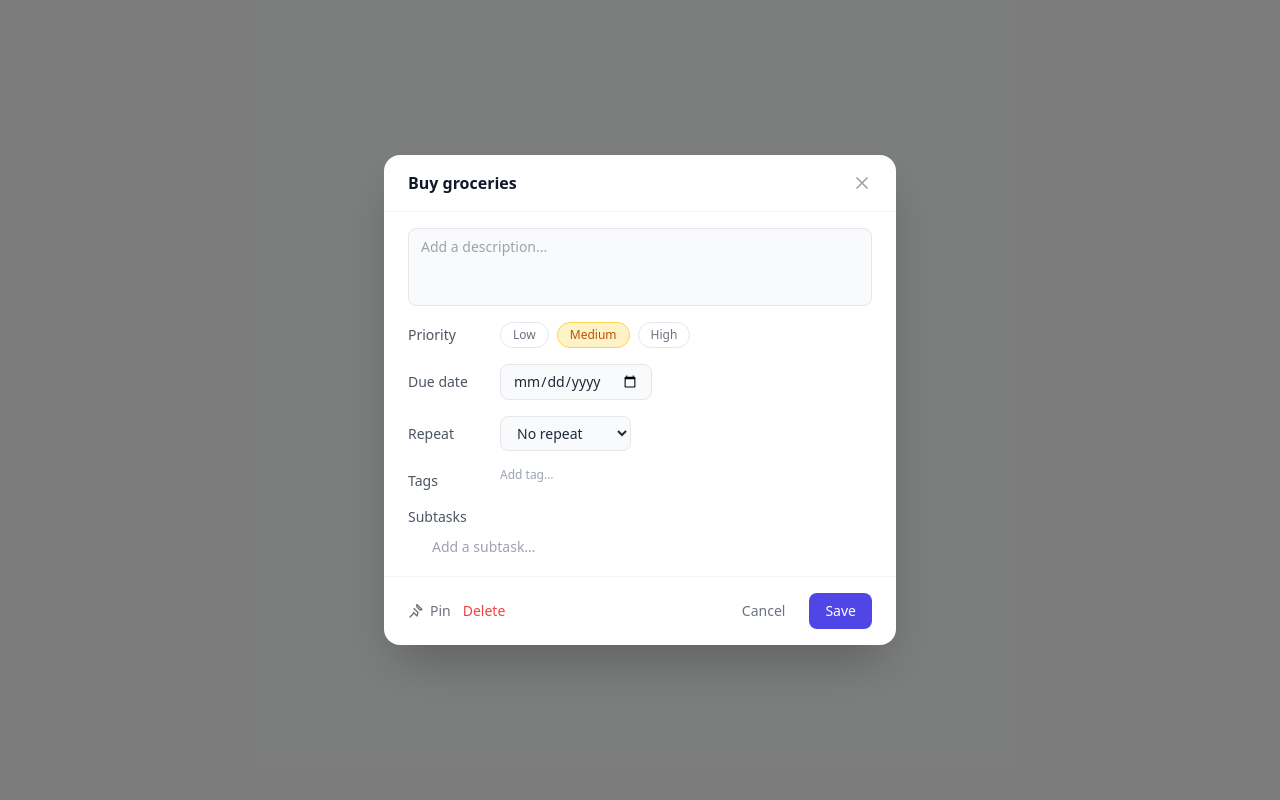
TaskModal – recurrence › hides custom day pickers when frequency changes away from custom
This screenshot has width=1280, height=800.
Select "Custom days" in the dropdown named "recurrence frequency": [566, 434] box 500,416 -> 631,451
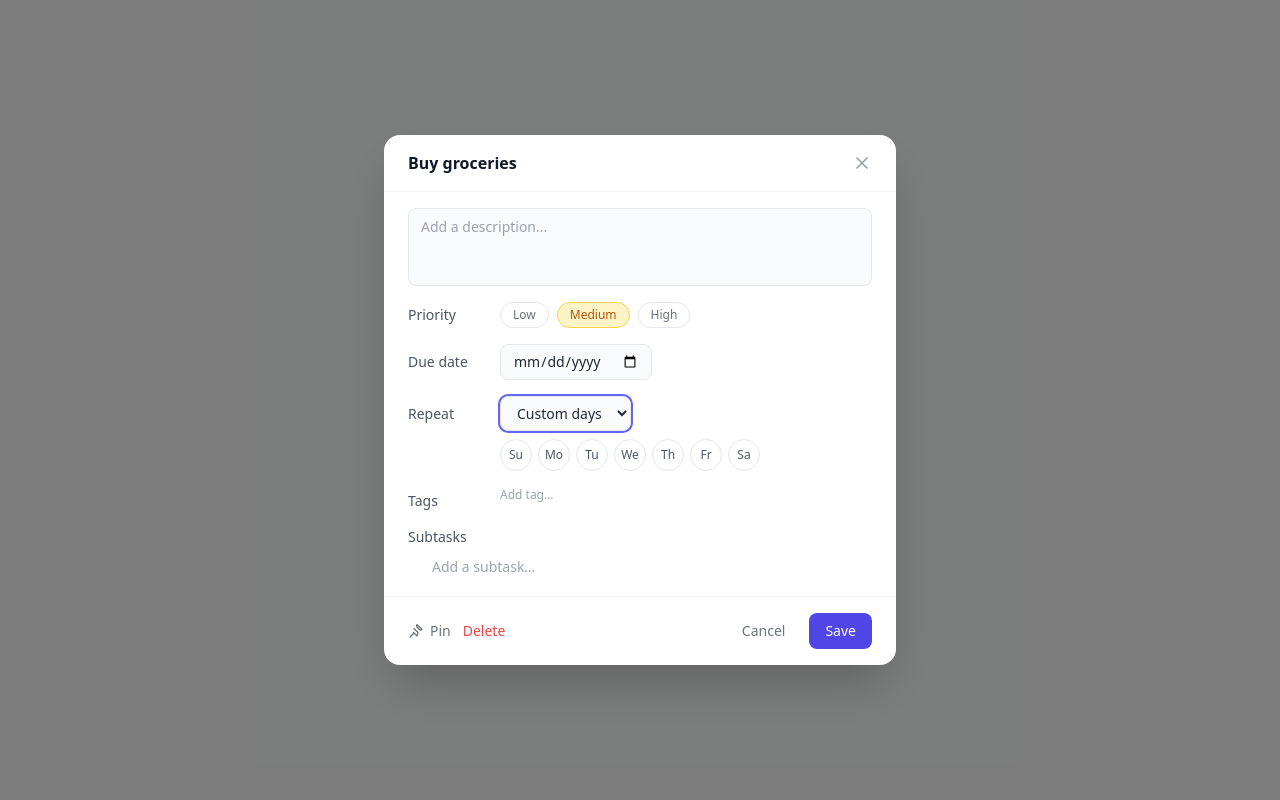
Select "Daily" in the dropdown named "recurrence frequency": [566, 414] box 500,396 -> 631,431
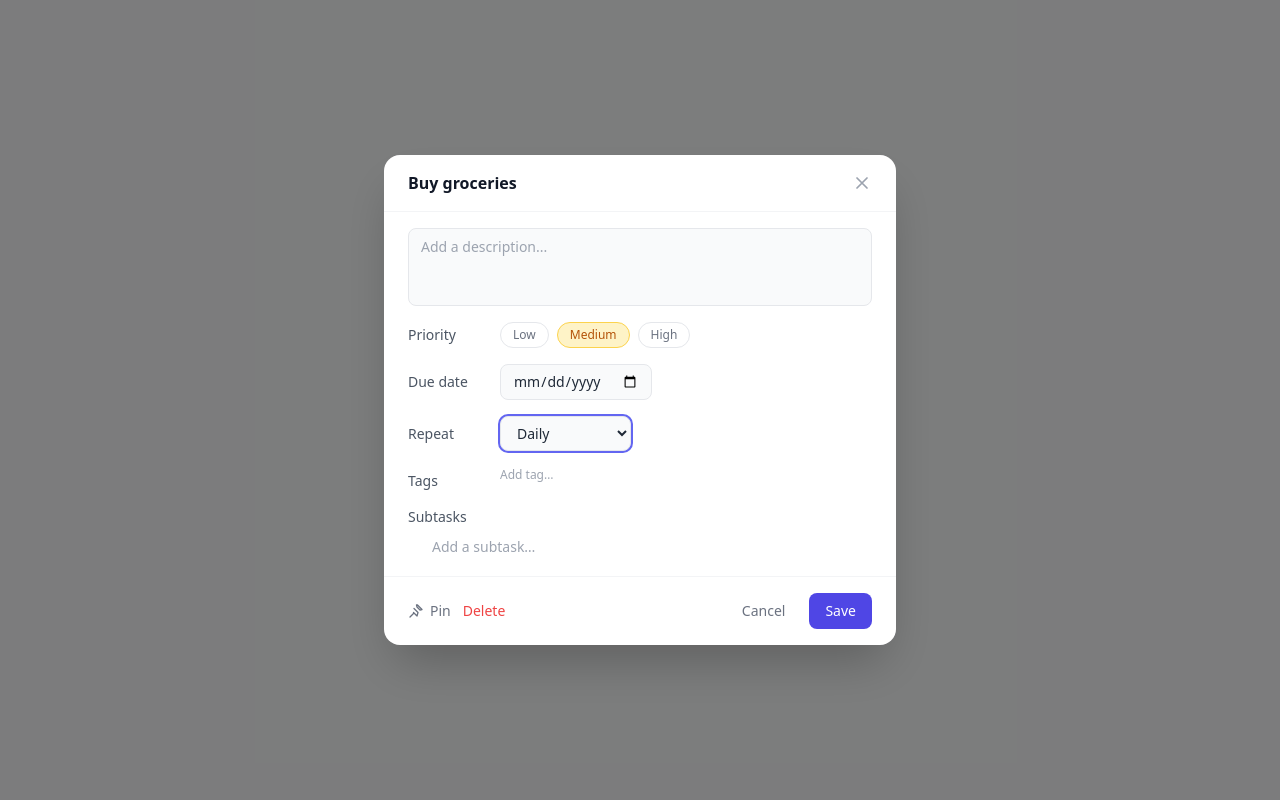
Check: the button "monday" is gone
